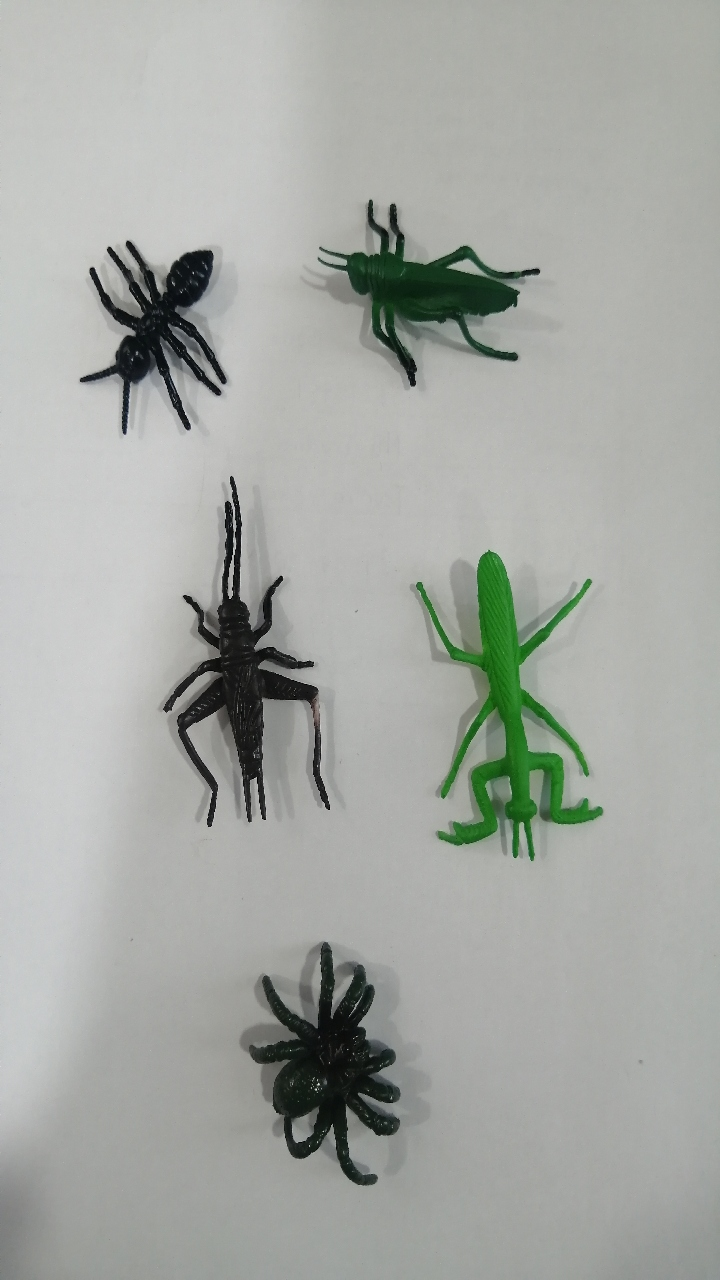intruso: (126, 459, 351, 851), (392, 519, 608, 891), (200, 923, 437, 1222), (294, 163, 560, 425), (34, 186, 248, 457)
